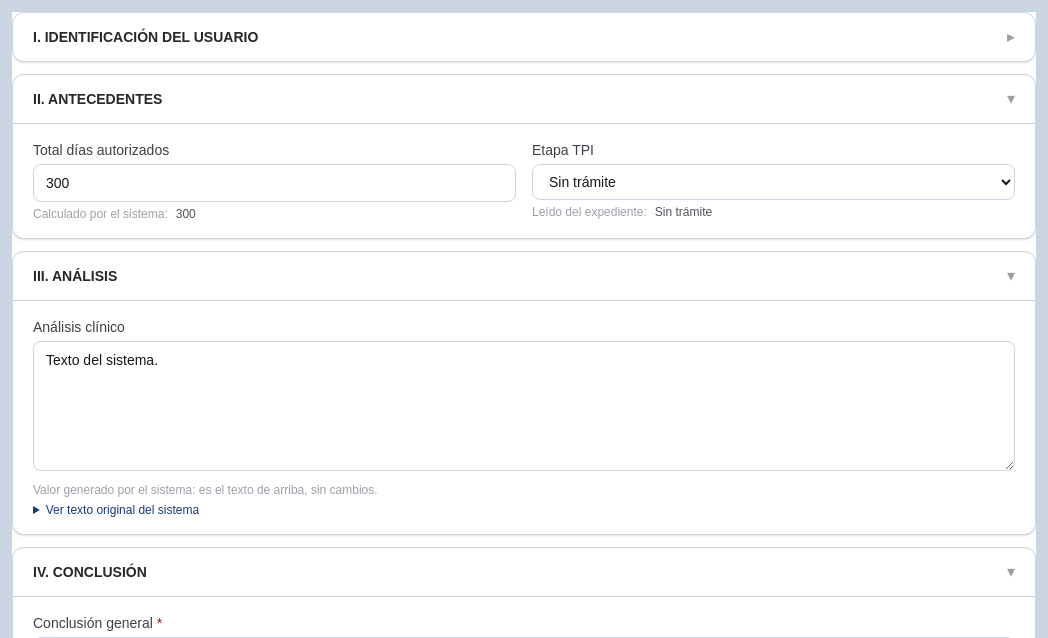
Test case: lo que dijo el sistema › dice de dónde viene cada valor: no es lo mismo una lectura que un cálculo
The image size is (1048, 638).
Expected: the text "Calculado por el sistema:" is shown, 33,206 -> 168,222
Click the button "I. IDENTIFICACIÓN DEL USUARIO ▸": (146, 37) 13,13 -> 1035,61
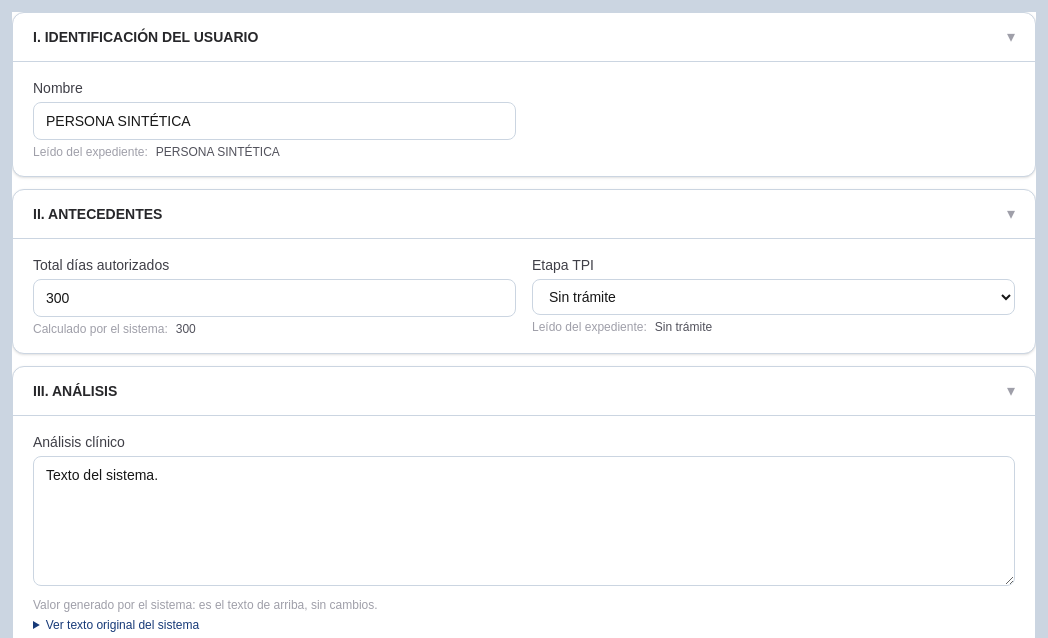
Now the text "Leído del expediente:" next to "PERSONA SINTÉTICA" is shown, box 33,145 -> 144,159
